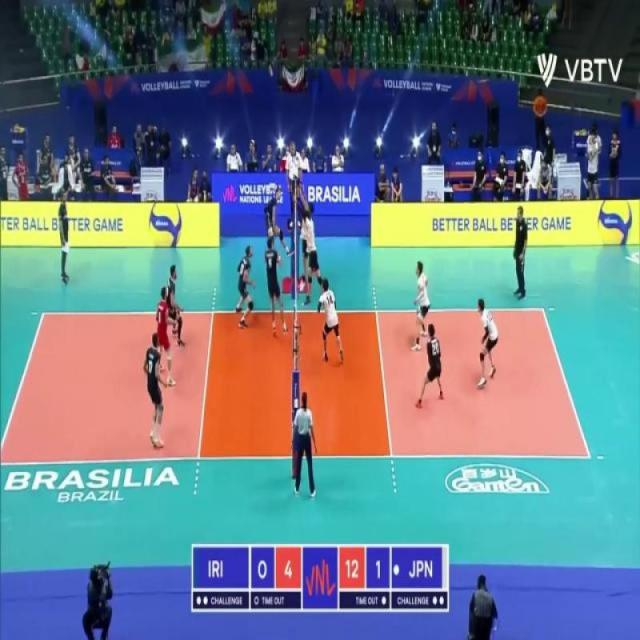volleyball: (269, 184, 276, 192)
